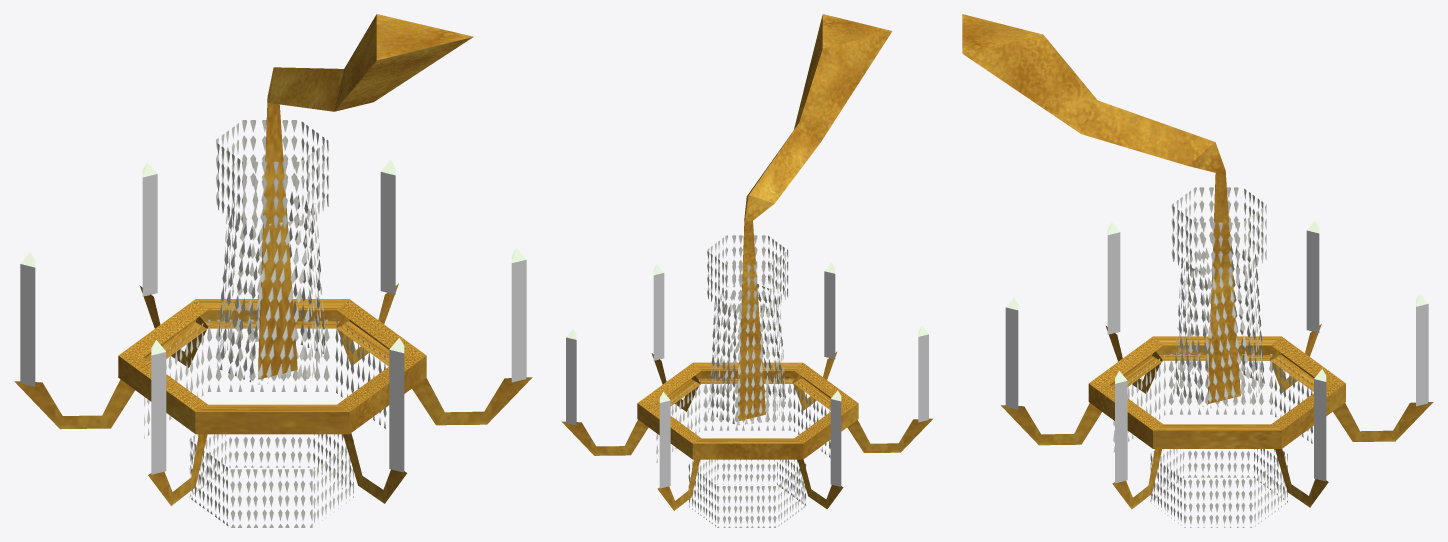
The model's file is chandelierMini.glb.
3 renders of one model, left to right at view 1: azimuth 30°, elevation 25°; view 2: azimuth 150°, elevation 25°; view 3: azimuth 270°, elevation 25°, orthographic. The views are drawn at different scales.
Parts seen in each view (by area): view 1: gold, drops, candles, emissive; view 2: gold, drops, candles, emissive; view 3: gold, drops, candles, emissive.
Boxes of the visible parts, bbox=[...] form: gold: bbox=[14, 14, 532, 505]; drops: bbox=[144, 120, 386, 527]; candles: bbox=[20, 172, 526, 474]; emissive: bbox=[20, 160, 526, 355]; gold: bbox=[561, 14, 932, 510]; drops: bbox=[656, 235, 830, 527]; candles: bbox=[566, 271, 928, 488]; emissive: bbox=[566, 263, 928, 402]; gold: bbox=[962, 14, 1433, 509]; drops: bbox=[1113, 187, 1312, 527]; candles: bbox=[1005, 230, 1428, 483]; emissive: bbox=[1006, 220, 1428, 383].
Size of the model in its own units: 0.8102 by 1.11 by 1.01.
Materials: 4 (2 with a texture image).
